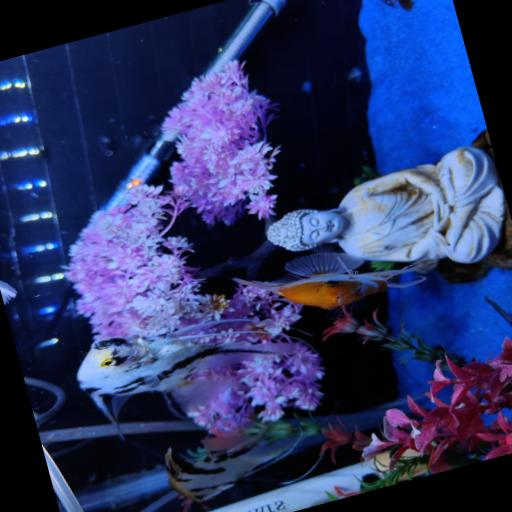Fish: (77, 319, 297, 431), (234, 253, 425, 309), (166, 436, 299, 501), (0, 281, 17, 303)
